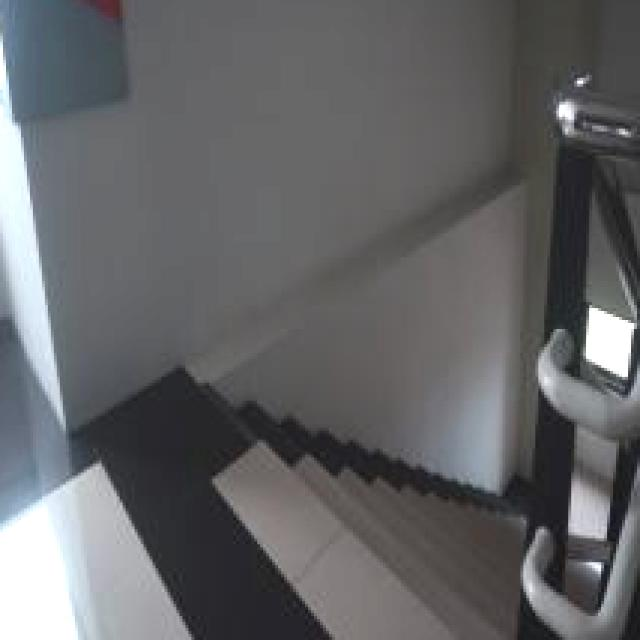downstair: (198, 407, 512, 640)
